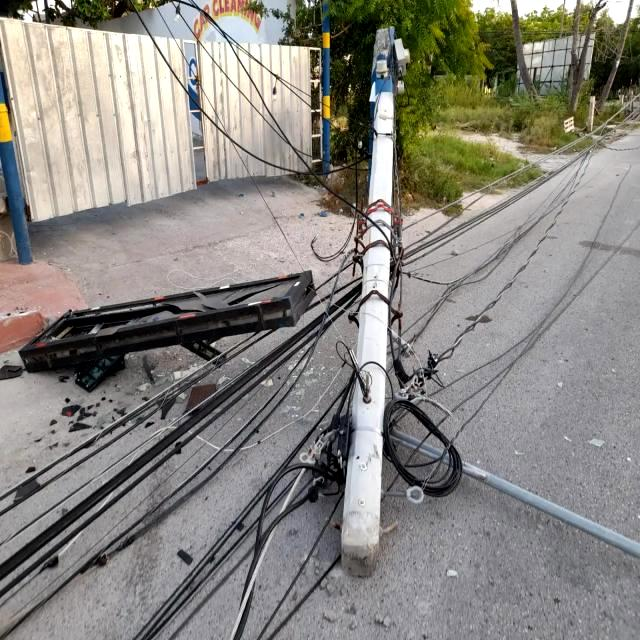Broken Pole: (307, 31, 457, 555)
